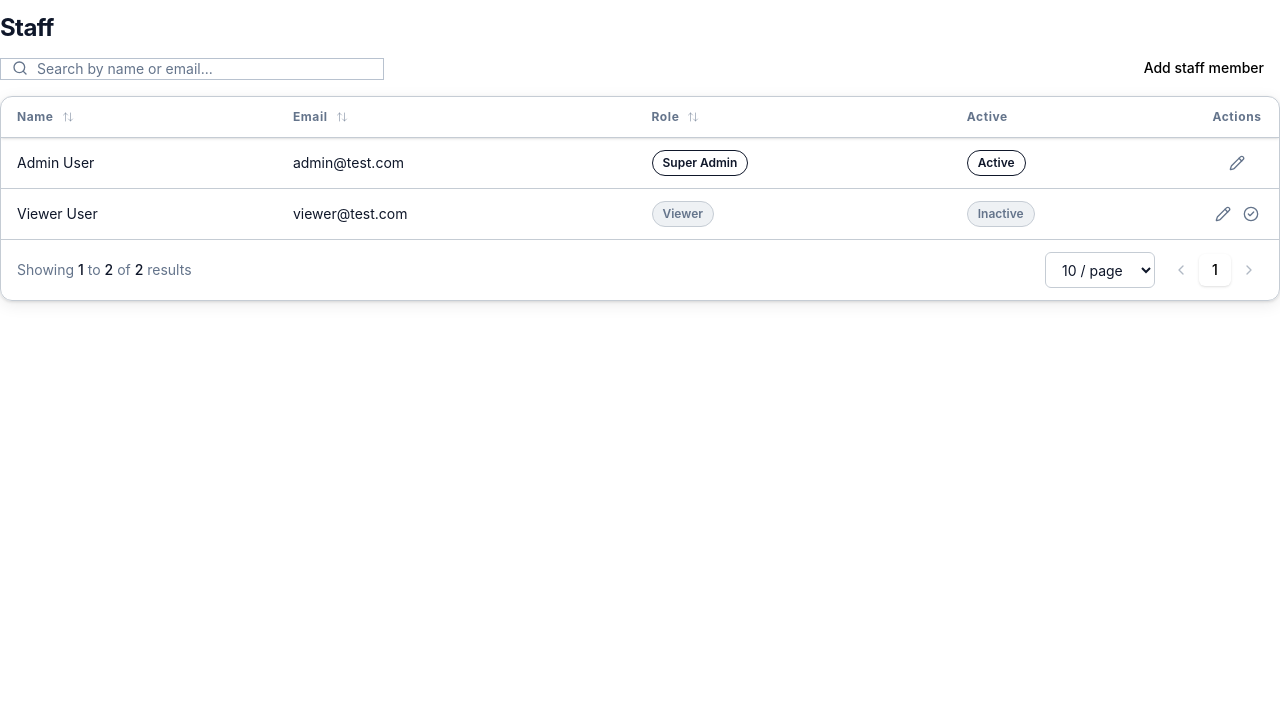
Scenario: StaffListPage › SUPER_ADMIN role › opens the edit dialog, pre-filled, when the Edit action is clicked
The image size is (1280, 720).
What coordinates should you click on to do the following:
click the button named "Edit Admin User"
I would click on:
 (1237, 163)
Its box is [1225,151,1249,175].
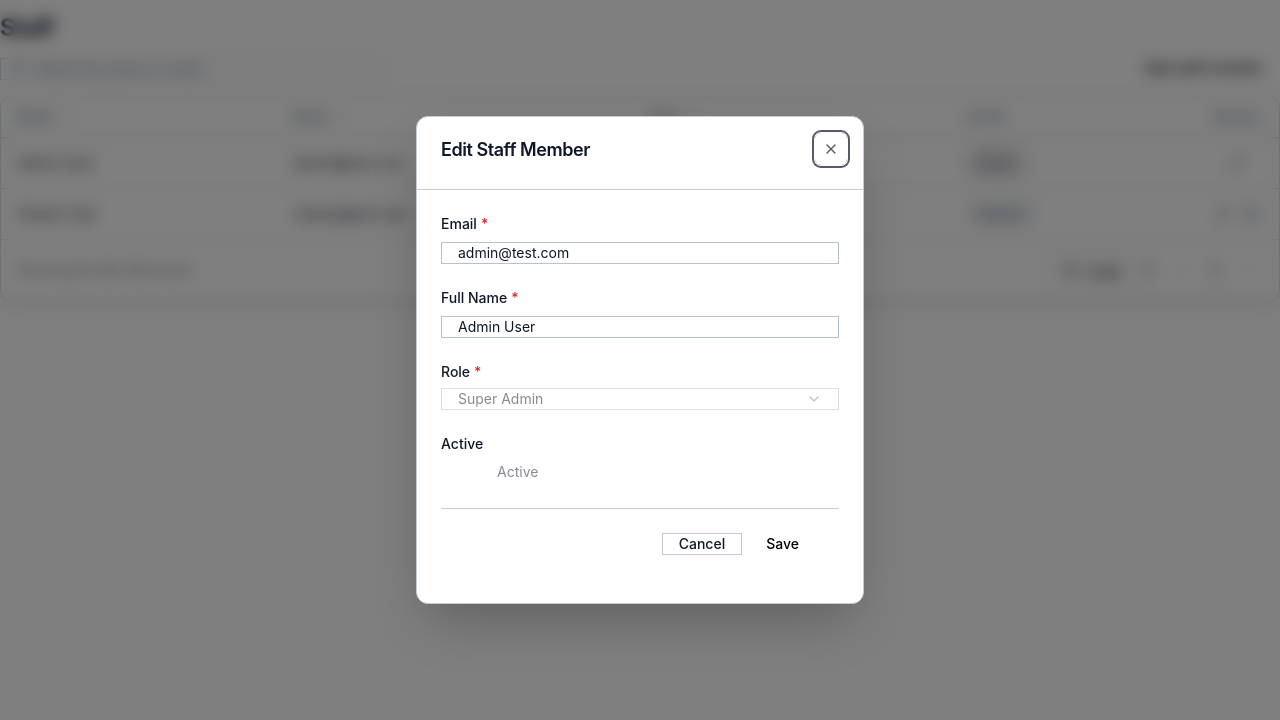
Expected: the text "Edit Staff Member" is shown, [441,139,590,160]
Expected: the field with placeholder "staff@example.com" holds "admin@test.com", [441,242,839,264]
